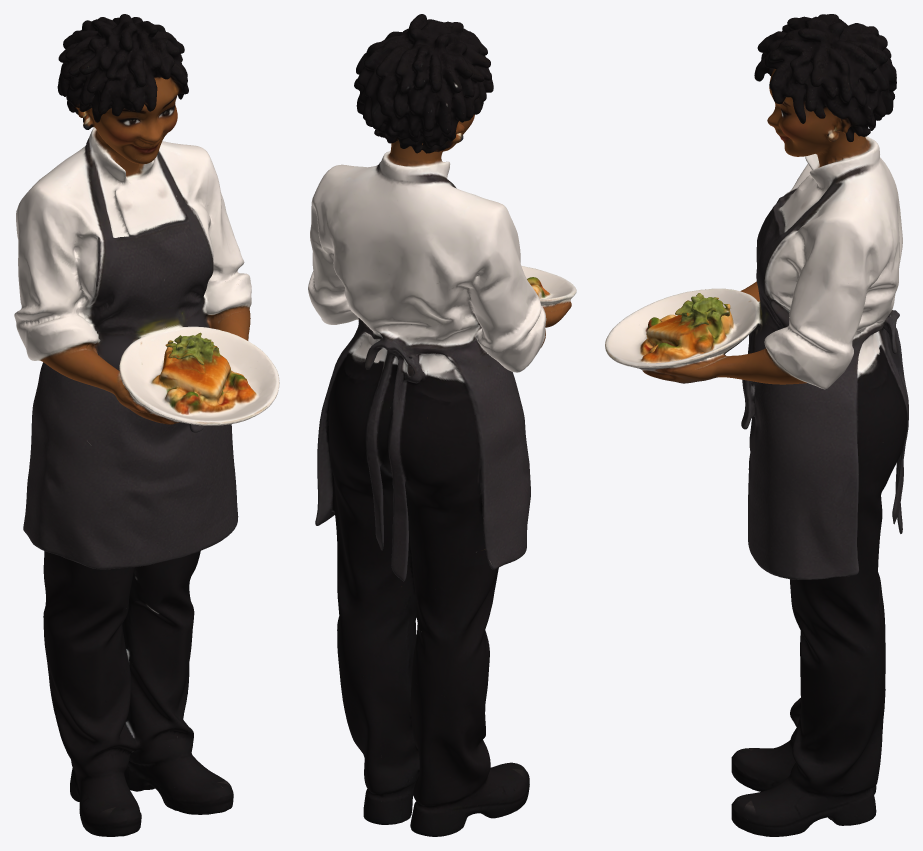
Rendered from chef_pose2.glb.
3 renders of one model, left to right at view 1: azimuth 30°, elevation 25°; view 2: azimuth 150°, elevation 25°; view 3: azimuth 270°, elevation 25°, orthographic.
Bounding box in the file's own units: 0.5579 × 1.9 × 0.6676.
1 material, 1 textured.
